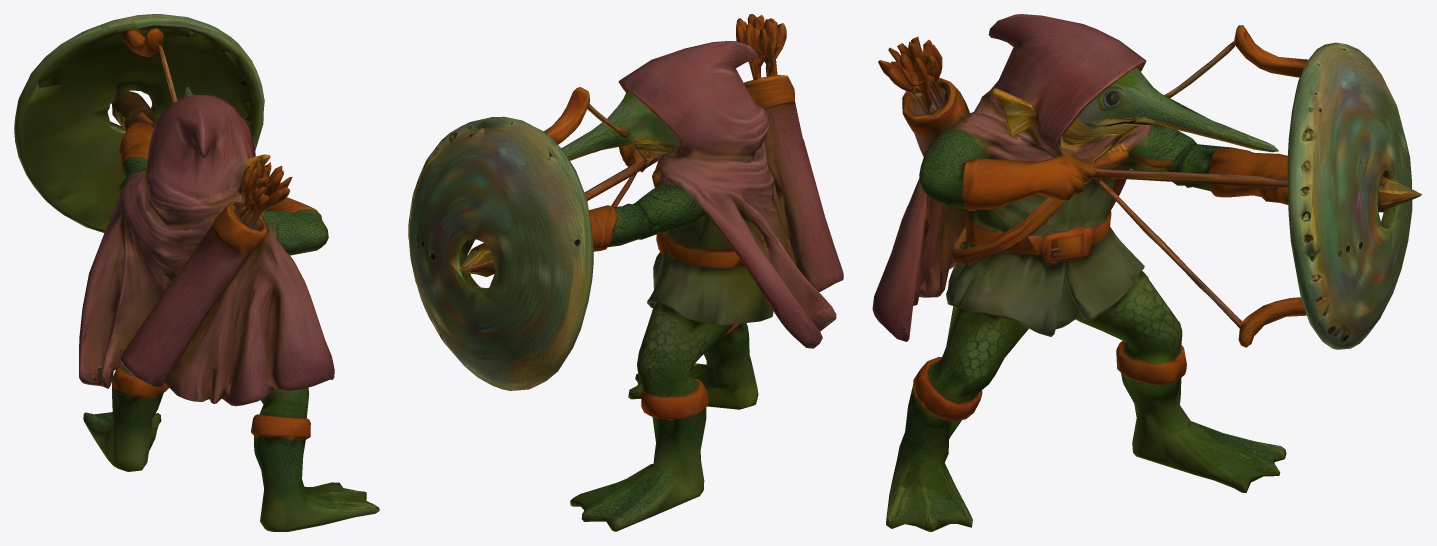
The picture shows the model from 3 angles, left to right: view 1: azimuth 30°, elevation 25°; view 2: azimuth 150°, elevation 25°; view 3: azimuth 270°, elevation 25°; orthographic projection. The views are drawn at different scales.
Visible parts, largest first — view 1: tripo_node_db1089d9-002f-4dd6-a18c-311fc255c849; view 2: tripo_node_db1089d9-002f-4dd6-a18c-311fc255c849; view 3: tripo_node_db1089d9-002f-4dd6-a18c-311fc255c849.
Part boxes in pixels (x1,y1,x2,y2): tripo_node_db1089d9-002f-4dd6-a18c-311fc255c849: (14,14,379,531); tripo_node_db1089d9-002f-4dd6-a18c-311fc255c849: (408,14,843,531); tripo_node_db1089d9-002f-4dd6-a18c-311fc255c849: (872,14,1421,531).
Bounding box in the file's own units: 0.7042 × 0.9304 × 0.999.
Materials: 1 (1 with a texture image).
